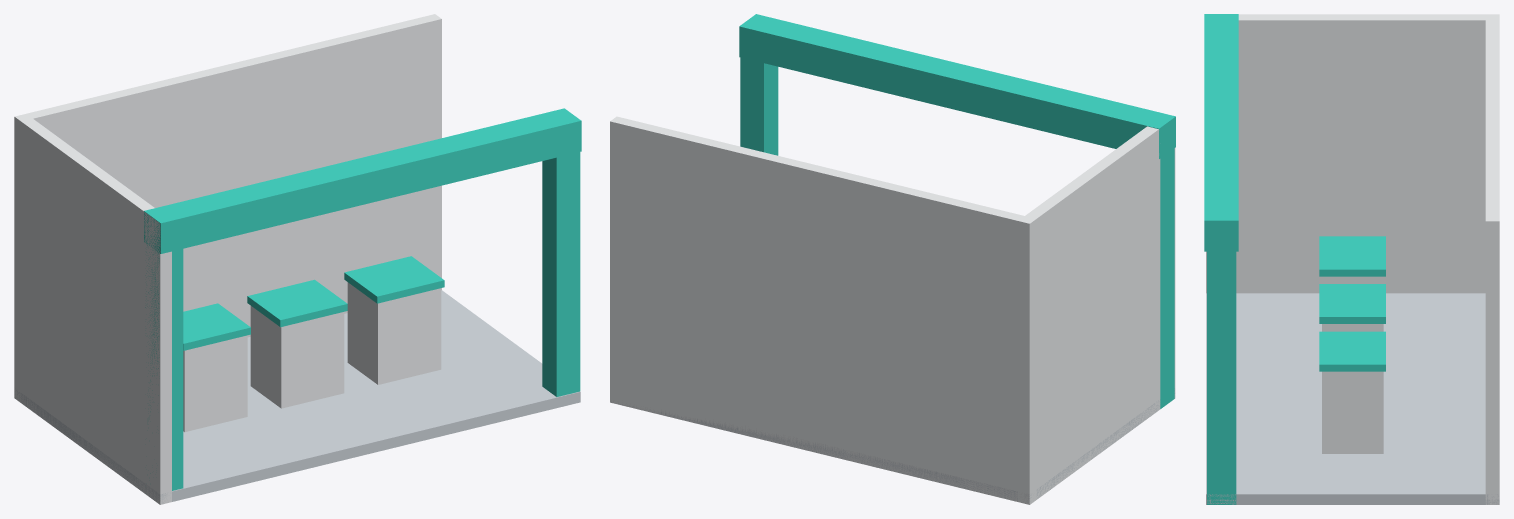
3 renders of one model, left to right at view 1: azimuth 30°, elevation 25°; view 2: azimuth 150°, elevation 25°; view 3: azimuth 270°, elevation 25°, orthographic.
Visible parts, largest first — view 1: Exhibition Booth Concept; view 2: Exhibition Booth Concept; view 3: Exhibition Booth Concept.
Boxes of the visible parts, box(x1,y1,x2,y2) form: Exhibition Booth Concept: box(14, 14, 581, 504); Exhibition Booth Concept: box(610, 14, 1175, 504); Exhibition Booth Concept: box(1204, 14, 1499, 504).
Bounding box in the file's own units: 5 × 3.2 × 3.01.
